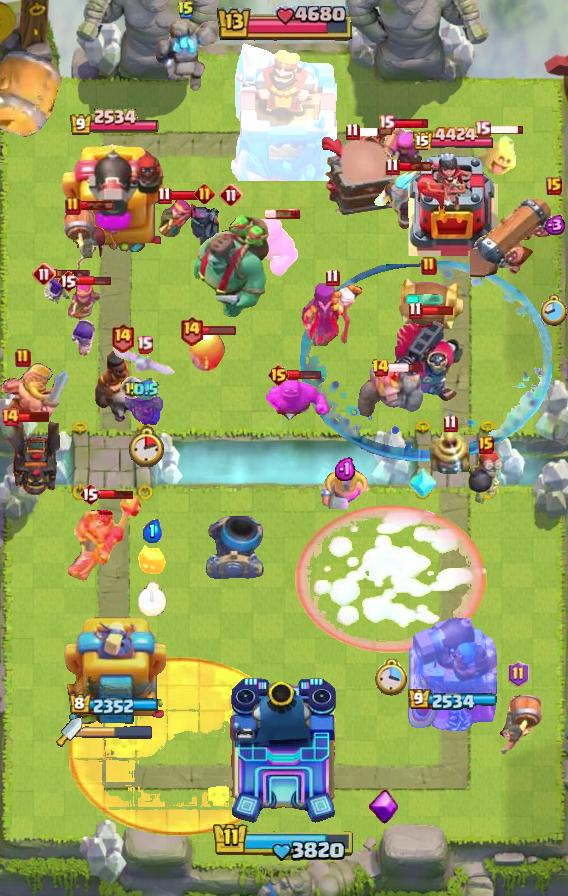archer: (156, 200, 192, 248), (63, 280, 101, 324)
bar: (14, 410, 51, 423), (388, 362, 425, 374), (54, 268, 91, 280), (265, 208, 301, 220), (397, 160, 433, 172), (170, 189, 205, 201), (488, 124, 525, 135), (393, 118, 430, 129), (99, 489, 135, 500), (201, 325, 237, 336), (76, 275, 112, 286), (287, 369, 322, 380), (79, 200, 114, 211), (420, 305, 454, 316), (357, 127, 393, 137)
bar-level: (110, 322, 135, 353), (179, 315, 204, 346), (120, 376, 144, 400), (32, 262, 56, 286), (219, 183, 243, 207), (267, 363, 290, 387), (508, 661, 529, 687), (79, 482, 101, 506), (57, 269, 79, 293), (194, 183, 215, 204), (0, 407, 20, 427), (371, 358, 390, 378), (177, 0, 195, 20), (136, 335, 153, 354), (474, 120, 491, 139), (378, 114, 395, 133), (15, 348, 31, 368), (421, 256, 437, 276), (65, 196, 81, 216), (478, 436, 494, 454), (546, 177, 562, 195), (443, 414, 458, 433), (408, 301, 423, 320), (325, 268, 340, 287), (157, 186, 172, 205), (385, 157, 400, 176), (345, 122, 360, 141)
barbarian-barrel: (392, 278, 466, 330)
bat-evolution: (110, 345, 178, 377)
bomber: (468, 451, 504, 505)
cannoneer-tower: (60, 138, 168, 256), (407, 611, 499, 731)
clock: (128, 426, 164, 467), (375, 659, 408, 697), (138, 582, 167, 616), (541, 294, 568, 327)
dagger-duchess-tower: (62, 611, 166, 731)
dagger-duchess-tower-bar: (82, 725, 154, 739)
elite-barbarian: (0, 363, 70, 421), (321, 466, 370, 509)
elixir: (133, 378, 159, 401), (334, 457, 357, 482), (142, 519, 162, 543), (542, 215, 566, 235)
elixir-golem-mid: (261, 371, 331, 429), (242, 219, 298, 277)
evolution-symbol: (367, 788, 400, 826)
fire-spirit: (138, 545, 166, 577)
firecracker: (376, 121, 425, 173)
golemite: (149, 16, 223, 98), (358, 364, 424, 424)
heal-spirit: (473, 134, 517, 178)
ice-spirit-evolution-symbol: (409, 466, 437, 500)
ice-wizard: (370, 167, 430, 233)
king-tower: (228, 676, 340, 826), (231, 43, 337, 181)
king-tower-bar: (212, 821, 356, 863), (215, 6, 354, 43)
mini-pekka: (188, 201, 221, 248)
mortar: (204, 515, 264, 579)
phoenix-egg: (186, 329, 226, 373)
queen-tower: (408, 152, 498, 256)
ram-rider: (93, 348, 151, 424)
skeleton-evolution: (42, 271, 74, 309), (70, 318, 96, 356)
spear-goblin: (125, 387, 167, 427)
tower-bar: (69, 108, 160, 137), (412, 126, 495, 153), (69, 694, 159, 717), (408, 689, 498, 712)
wall-breaker: (493, 692, 543, 756), (61, 206, 109, 272)
witch: (300, 280, 364, 346)
zappy: (427, 431, 473, 479)
